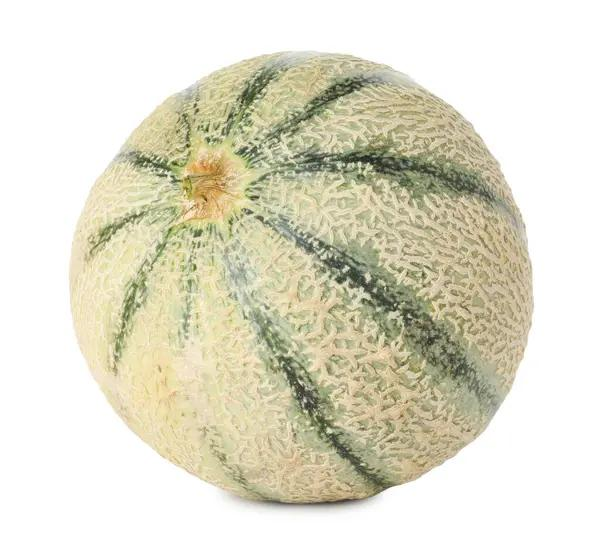cantaloupe: (67, 48, 534, 505)
